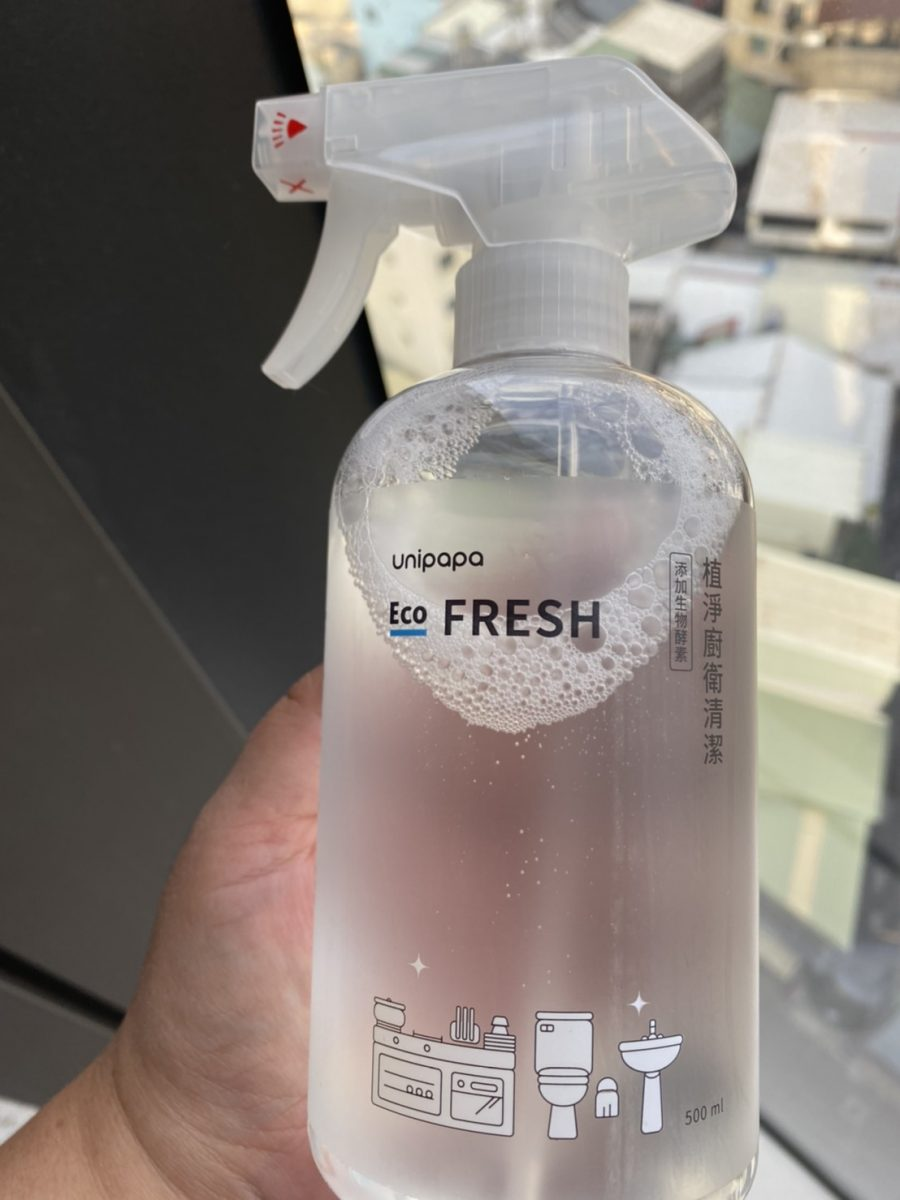cleaner: (208, 50, 792, 1197)
